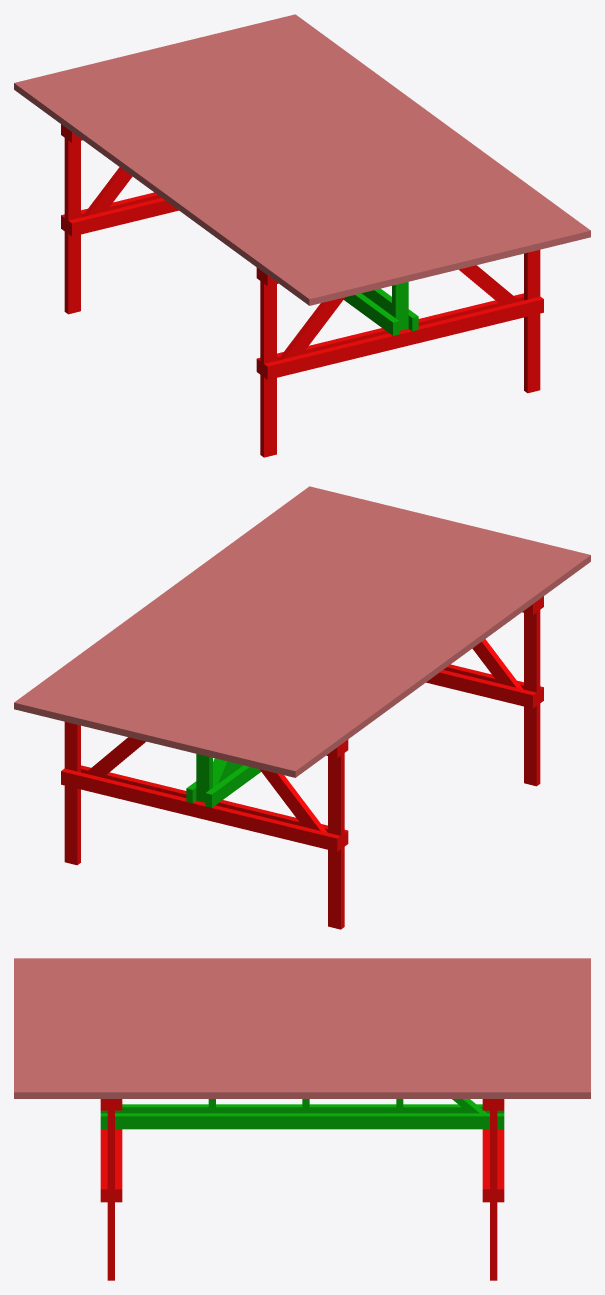
Rendered from result.glb.
3 views of the same model, one above another, from view 1: azimuth 30°, elevation 25°; view 2: azimuth 150°, elevation 25°; view 3: azimuth 270°, elevation 25° (orthographic). The views are drawn at different scales.
Parts seen in each view (by area): view 1: ae05f20c-ca31-445b-a417-561e276b6769__Box, 3bb61c9b-bd9a-477b-a9c7-c457262d3c98__sideH, 9a4abcbe-b49f-481f-ad5b-d9e92fd53583__undefined, 582826ee-8447-4b47-b3f7-7ae1ea07dbcc__undefined, 1ce5bfb8-91af-4e77-9614-3f2d3f9daec9__undefined, 6d3551b0-62a1-46be-9e1d-7cd6ab120739__undefined, 0b80072e-b2d2-4e81-bc78-d4660b5dd7e8__undefined, d6b0bc51-bdbc-4691-a968-83b0e39b2bca__undefined, ae0263e9-6e88-45c6-bb2d-1c911cee8e2a__undefined, c1d89916-1c55-4504-83eb-f090616c1c1a__undefined, c2a82afc-db68-4a9b-b8ab-58825178d46b__undefined, db296f2f-fcec-4e54-b7ec-9df2df2fc0f7__undefined (+22 smaller); view 2: ae05f20c-ca31-445b-a417-561e276b6769__Box, c4330bfa-426d-4dbb-9b8d-b1ba50f835d9__undefined, 9a4abcbe-b49f-481f-ad5b-d9e92fd53583__undefined, 582826ee-8447-4b47-b3f7-7ae1ea07dbcc__undefined, 1ce5bfb8-91af-4e77-9614-3f2d3f9daec9__undefined, 6d3551b0-62a1-46be-9e1d-7cd6ab120739__undefined, 0b80072e-b2d2-4e81-bc78-d4660b5dd7e8__undefined, d6b0bc51-bdbc-4691-a968-83b0e39b2bca__undefined, ae0263e9-6e88-45c6-bb2d-1c911cee8e2a__undefined, c1d89916-1c55-4504-83eb-f090616c1c1a__undefined, c2a82afc-db68-4a9b-b8ab-58825178d46b__undefined, db296f2f-fcec-4e54-b7ec-9df2df2fc0f7__undefined (+21 smaller); view 3: ed6c564d-fc5f-4339-bcaf-85f925a97773__undefined, c0eff279-ba98-47f9-b012-bf439702885a__strutH, ae05f20c-ca31-445b-a417-561e276b6769__Box, 3a477cc5-bd5c-4e61-80a6-0cd4c754a438__undefined, 08a25c45-47c1-4490-b3f7-0a005e353e04__undefined, 308aadd6-ae4c-42d7-9ee2-1ef4ffa7451e__undefined, d6b0bc51-bdbc-4691-a968-83b0e39b2bca__undefined, 582826ee-8447-4b47-b3f7-7ae1ea07dbcc__undefined, ae0263e9-6e88-45c6-bb2d-1c911cee8e2a__undefined, 6d3551b0-62a1-46be-9e1d-7cd6ab120739__undefined, 4123bcf9-2c49-4058-bce1-1ef363807bea__undefined, db296f2f-fcec-4e54-b7ec-9df2df2fc0f7__undefined (+18 smaller).
Boxes of the visible parts, x1,y1,x2,y2 form: ae05f20c-ca31-445b-a417-561e276b6769__Box: (14,80,322,305); 3bb61c9b-bd9a-477b-a9c7-c457262d3c98__sideH: (264,296,543,379); 9a4abcbe-b49f-481f-ad5b-d9e92fd53583__undefined: (206,33,514,258); 582826ee-8447-4b47-b3f7-7ae1ea07dbcc__undefined: (78,64,386,290); 1ce5bfb8-91af-4e77-9614-3f2d3f9daec9__undefined: (244,23,552,249); 6d3551b0-62a1-46be-9e1d-7cd6ab120739__undefined: (142,48,450,274); 0b80072e-b2d2-4e81-bc78-d4660b5dd7e8__undefined: (193,36,501,261); d6b0bc51-bdbc-4691-a968-83b0e39b2bca__undefined: (65,67,373,293); ae0263e9-6e88-45c6-bb2d-1c911cee8e2a__undefined: (129,52,437,277); c1d89916-1c55-4504-83eb-f090616c1c1a__undefined: (270,17,578,243); c2a82afc-db68-4a9b-b8ab-58825178d46b__undefined: (257,20,565,246); db296f2f-fcec-4e54-b7ec-9df2df2fc0f7__undefined: (168,42,475,268); ae05f20c-ca31-445b-a417-561e276b6769__Box: (282,552,590,777); c4330bfa-426d-4dbb-9b8d-b1ba50f835d9__undefined: (61,768,340,851); 9a4abcbe-b49f-481f-ad5b-d9e92fd53583__undefined: (90,505,398,730); 582826ee-8447-4b47-b3f7-7ae1ea07dbcc__undefined: (218,536,526,762); 1ce5bfb8-91af-4e77-9614-3f2d3f9daec9__undefined: (52,495,360,721); 6d3551b0-62a1-46be-9e1d-7cd6ab120739__undefined: (154,520,462,746); 0b80072e-b2d2-4e81-bc78-d4660b5dd7e8__undefined: (103,508,411,733); d6b0bc51-bdbc-4691-a968-83b0e39b2bca__undefined: (231,539,539,765); ae0263e9-6e88-45c6-bb2d-1c911cee8e2a__undefined: (167,524,475,749); c1d89916-1c55-4504-83eb-f090616c1c1a__undefined: (26,489,334,715); c2a82afc-db68-4a9b-b8ab-58825178d46b__undefined: (39,492,347,718); db296f2f-fcec-4e54-b7ec-9df2df2fc0f7__undefined: (129,514,436,740); ed6c564d-fc5f-4339-bcaf-85f925a97773__undefined: (14,1086,590,1098); c0eff279-ba98-47f9-b012-bf439702885a__strutH: (100,1113,504,1129); ae05f20c-ca31-445b-a417-561e276b6769__Box: (14,958,590,964); 3a477cc5-bd5c-4e61-80a6-0cd4c754a438__undefined: (14,964,590,970); 08a25c45-47c1-4490-b3f7-0a005e353e04__undefined: (14,970,590,976); 308aadd6-ae4c-42d7-9ee2-1ef4ffa7451e__undefined: (14,976,590,982); d6b0bc51-bdbc-4691-a968-83b0e39b2bca__undefined: (14,982,590,988); 582826ee-8447-4b47-b3f7-7ae1ea07dbcc__undefined: (14,988,590,994); ae0263e9-6e88-45c6-bb2d-1c911cee8e2a__undefined: (14,1013,590,1019); 6d3551b0-62a1-46be-9e1d-7cd6ab120739__undefined: (14,1019,590,1025); 4123bcf9-2c49-4058-bce1-1ef363807bea__undefined: (14,1025,590,1031); db296f2f-fcec-4e54-b7ec-9df2df2fc0f7__undefined: (14,1031,590,1037).
Bounding box in the file's own units: 1100 × 725 × 2000.
